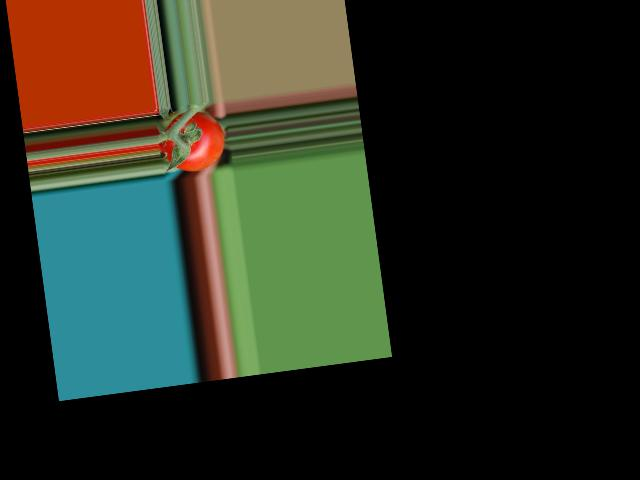tomato: (156, 107, 227, 175)
